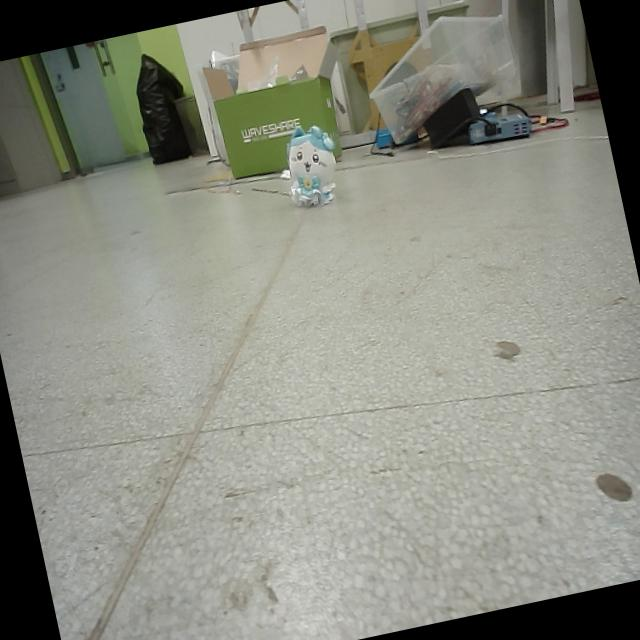xiaoba: (276, 118, 347, 215)
